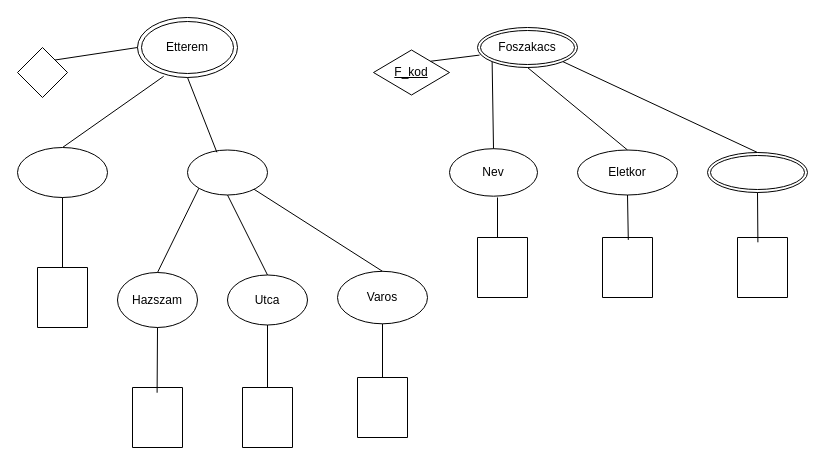
The diagram is 825 pixels wide and 465 high, and some of its shapes have lost their labels. Here are the shapes that lost their labels. From the top down, the box of each, then its label:
(16, 46, 68, 98): E_kod
(16, 146, 108, 198): Csillag
(186, 149, 268, 195): Cim
(706, 152, 808, 192): Vegzettseg
